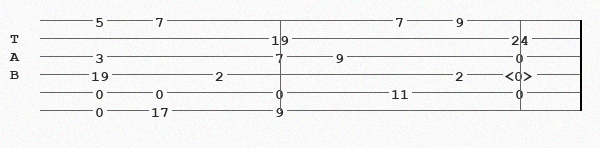0: (95, 86, 108, 99), (95, 104, 108, 117), (155, 86, 168, 99), (275, 86, 288, 99), (515, 86, 528, 99), (515, 50, 528, 63)
11: (391, 86, 413, 99)
17: (151, 104, 173, 117)
19: (91, 68, 113, 81), (271, 32, 293, 45)
2: (215, 68, 228, 81), (455, 68, 468, 81)
24: (511, 32, 533, 45)
3: (95, 50, 108, 63)
5: (95, 14, 108, 27)
7: (155, 14, 168, 27), (275, 50, 288, 63), (395, 14, 408, 27)
9: (275, 104, 288, 117), (335, 50, 348, 63), (455, 14, 468, 27)
harmonic: (505, 68, 538, 81)
